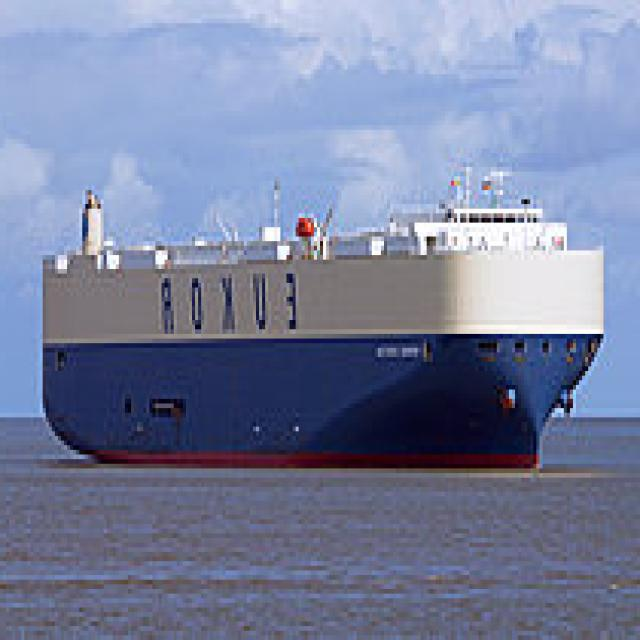Carrier: (40, 148, 612, 473)
